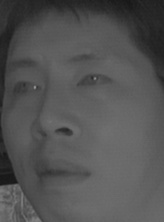eye: (74, 69, 112, 92), (9, 77, 44, 98)
mouth: (30, 157, 96, 193)
